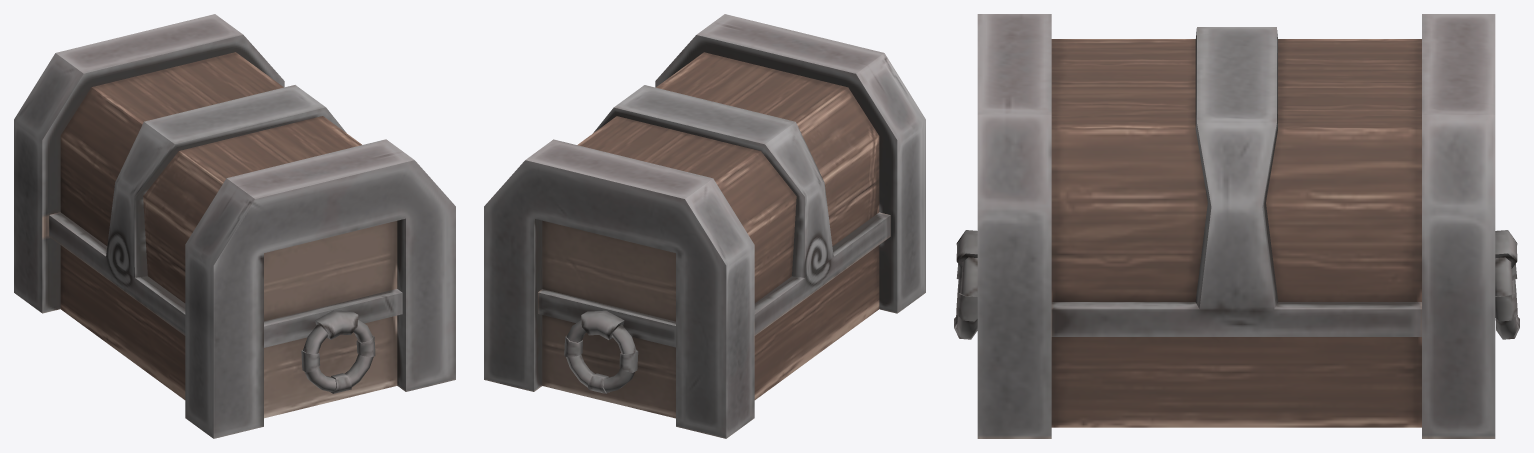
The model's file is SM_Chest.fbx.
3 views of the same model, side by side, from view 1: azimuth 30°, elevation 25°; view 2: azimuth 150°, elevation 25°; view 3: azimuth 270°, elevation 25° (orthographic). The views are drawn at different scales.
Visible parts, largest first — view 1: SM_Chest_LOD0; view 2: SM_Chest_LOD0; view 3: SM_Chest_LOD0.
Part boxes in pixels (x1,y1,x2,y2): SM_Chest_LOD0: (14,14,455,438); SM_Chest_LOD0: (484,14,925,438); SM_Chest_LOD0: (954,14,1519,438).
Bounding box in the file's own units: 29.48 × 46.01 × 26.73.
1 material, 1 textured.
